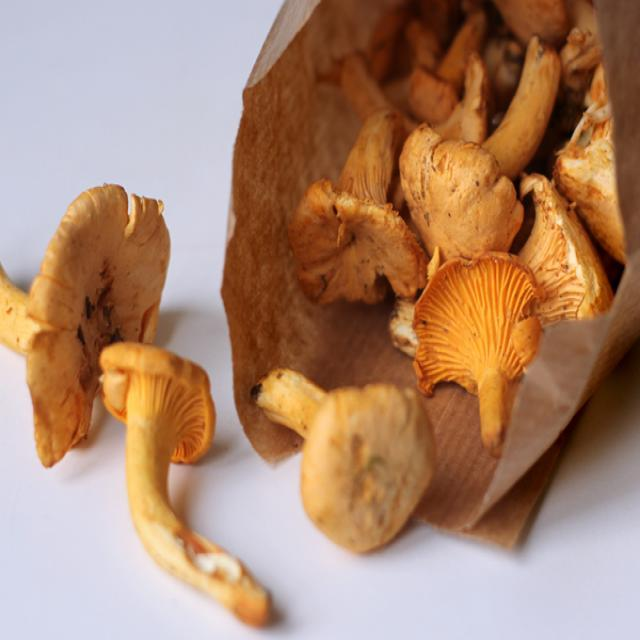Cantharellus cibarius: (101, 336, 275, 617), (0, 187, 172, 467), (398, 32, 559, 260), (256, 359, 430, 551), (294, 105, 421, 300), (423, 256, 539, 449)
